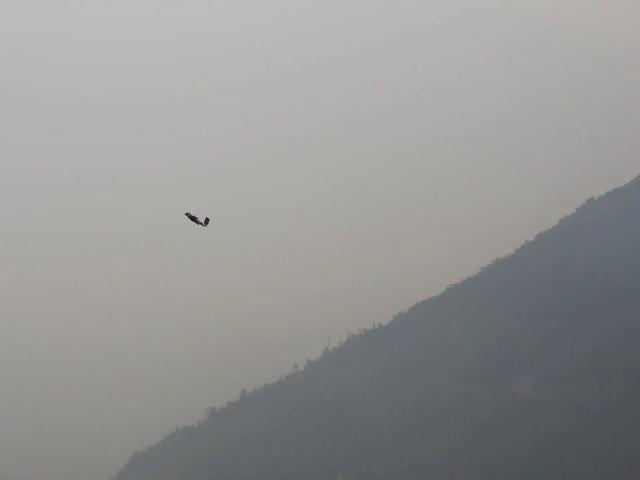plane: (184, 210, 210, 228)
